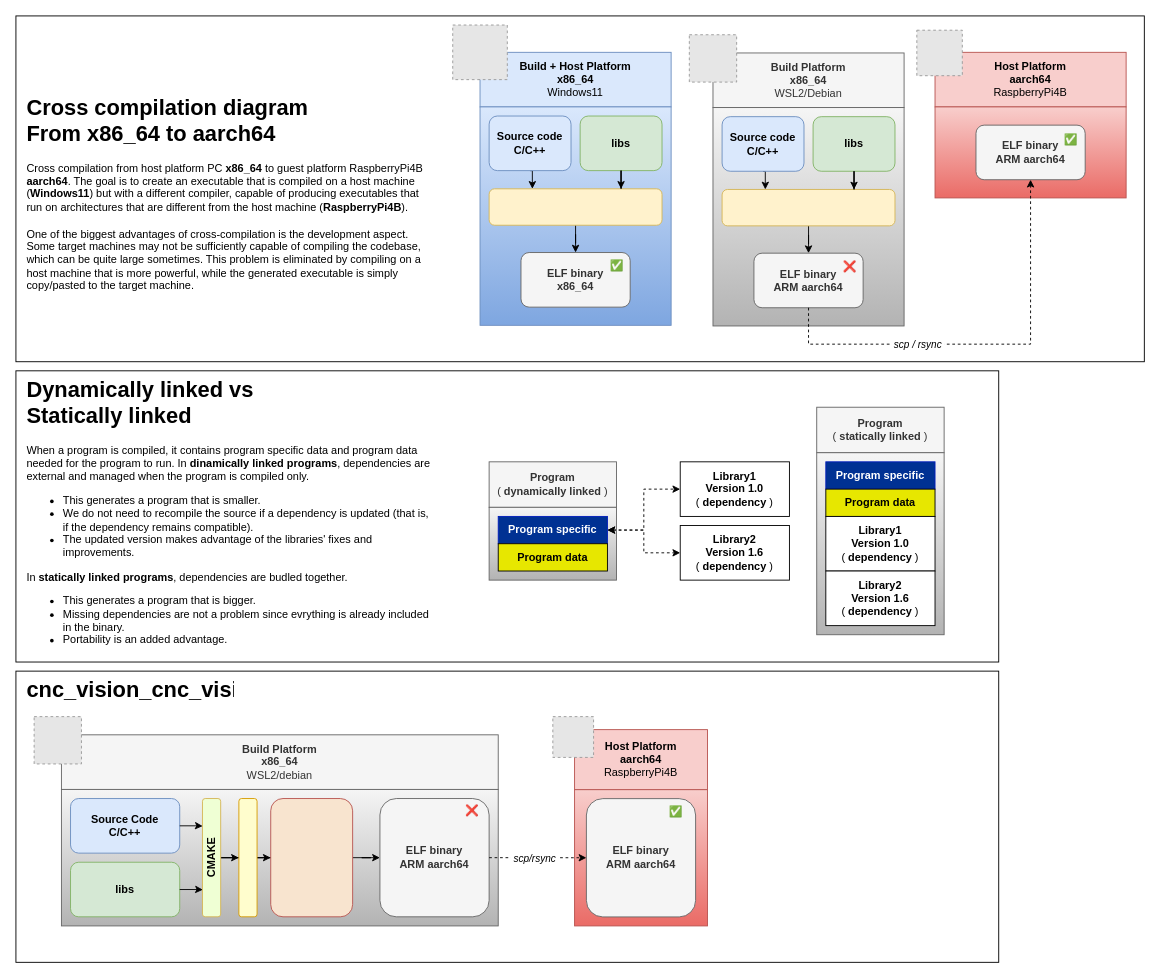
Image size: 1160x978. Some labels were removed from this diagram. Grey dashed boxes stand in for pictures. The centre of each missing label's shape, as x and y in pixels:
aarch64-linux-gnu-g ++: the point at 311,857
Compiler ( g++ ): the point at 575,206
Cross compiler ( aarch64-linux-gnu-g++ ): the point at 808,207
Unix Makefiles: the point at 247,857
